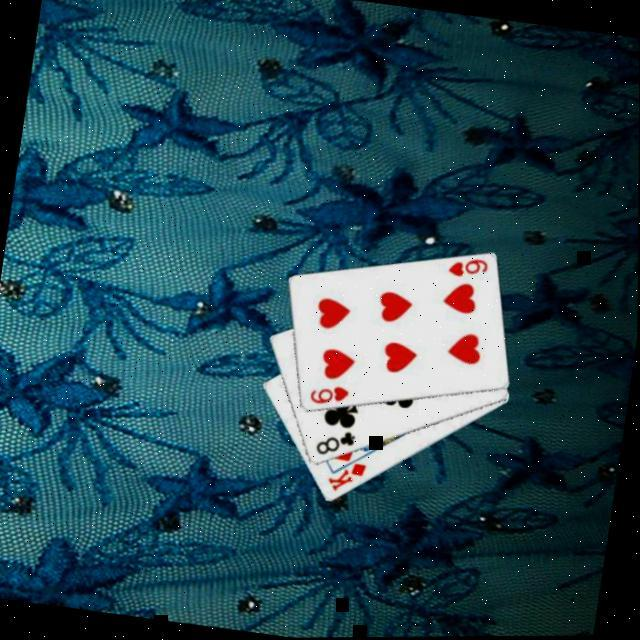6H: (308, 378, 355, 410), (447, 251, 494, 282)
8C: (314, 422, 362, 460)
KD: (326, 455, 373, 496)
